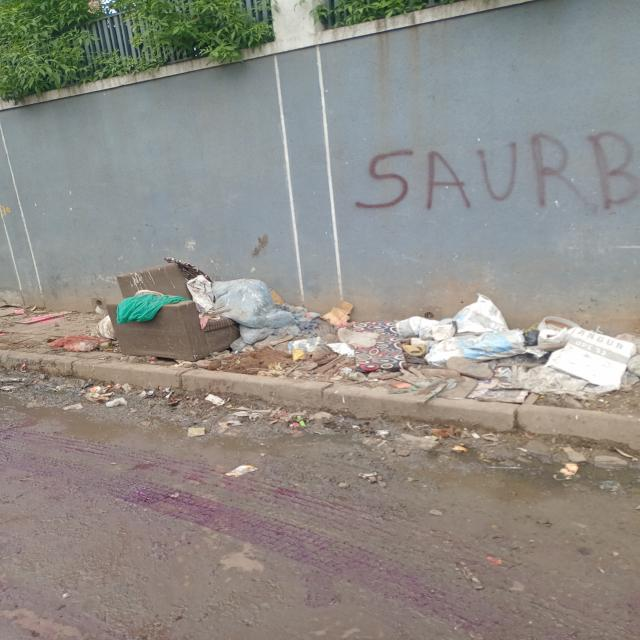garbage: (299, 310, 638, 407), (93, 272, 302, 391)
